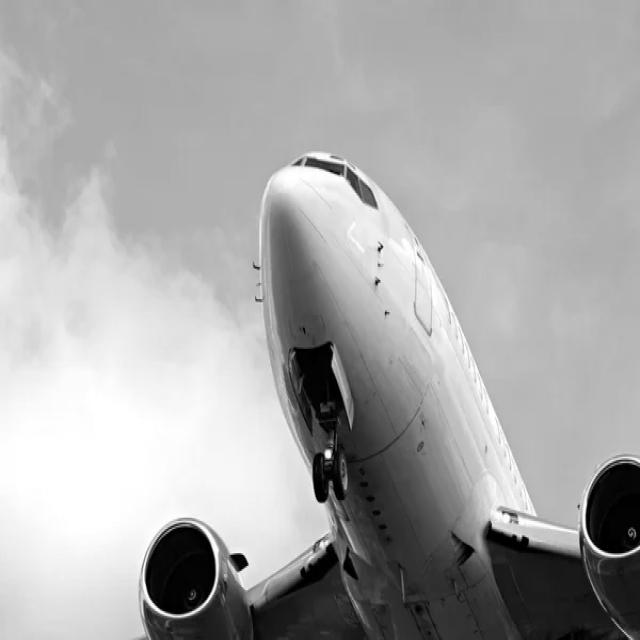Aircraft: (133, 144, 640, 640)
